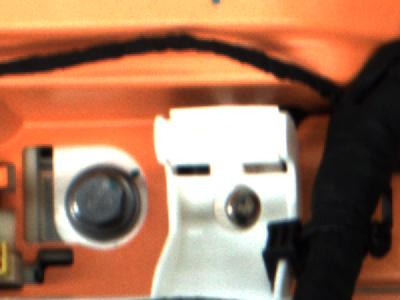nut_b: (67, 164, 144, 239)
